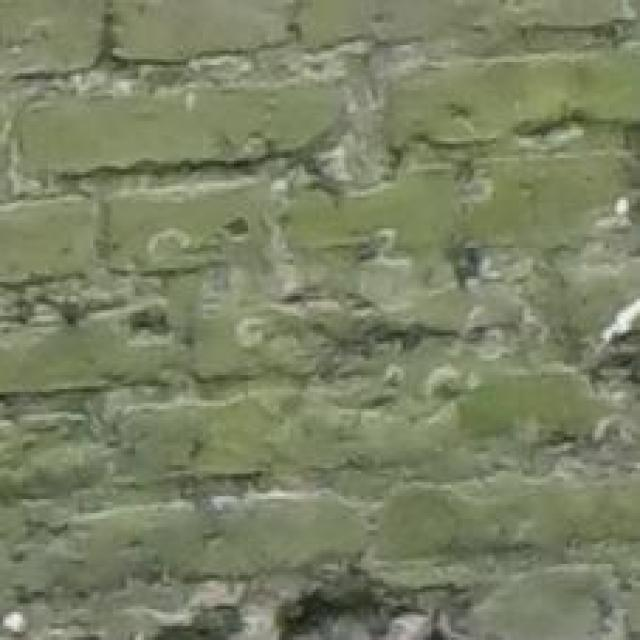Crack: (116, 484, 500, 640)
